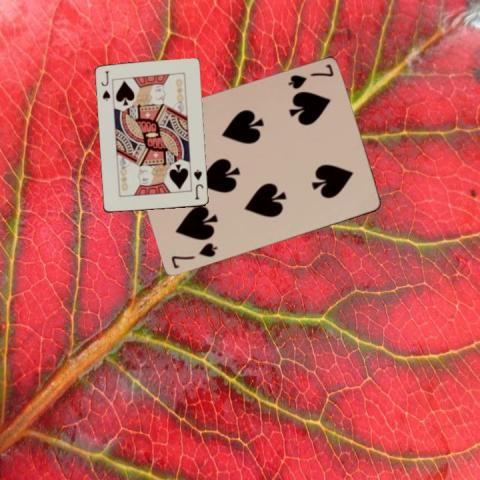7s: (168, 240, 219, 270), (284, 61, 334, 91)
Js: (191, 166, 205, 201), (98, 68, 112, 103)
